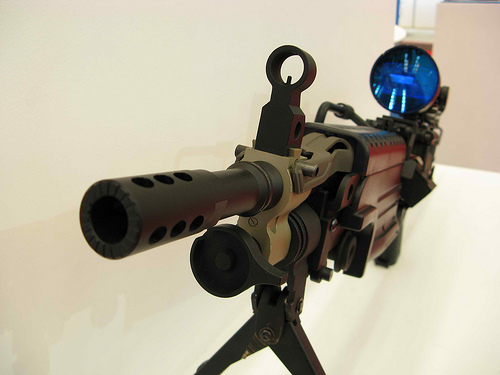rifle: (26, 24, 461, 370)
